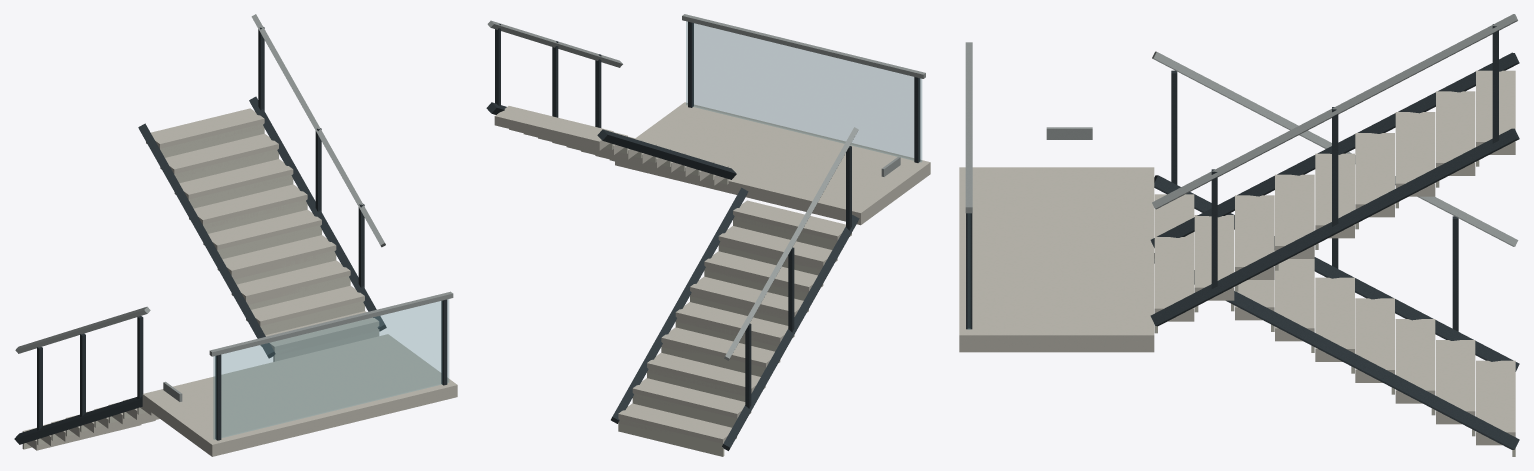
3 renders of one model, left to right at view 1: azimuth 30°, elevation 25°; view 2: azimuth 150°, elevation 25°; view 3: azimuth 270°, elevation 25°, orthographic. The views are drawn at different scales.
Visible parts, largest first — view 1: VIS_Stair_Mid_Landing__Terrazzo, VIS_Stair_B_Treads__Terrazzo, VIS_Mid_Landing_Back_Glass__ClearGlass, VIS_Stair_B_Risers__Limestone, VIS_Stair_B_Side_Stringer__CharcoalSteel, VIS_Mid_Landing_Back_Cap__SilverAluminum, VIS_Stair_A_Treads__Terrazzo, VIS_Stair_B_Outer_Post__CharcoalSteel, VIS_Stair_A_Outer_Post__CharcoalSteel, VIS_Stair_B_Outer_Handrail__SilverAluminum, VIS_Stair_A_Side_Stringer__CharcoalSteel, VIS_Mid_Landing_Guard_Post__CharcoalSteel (+1 smaller); view 2: VIS_Stair_A_Treads__Terrazzo, VIS_Mid_Landing_Back_Glass__ClearGlass, VIS_Stair_Mid_Landing__Terrazzo, VIS_Stair_A_Risers__Limestone, VIS_Stair_B_Treads__Terrazzo, VIS_Stair_A_Side_Stringer__CharcoalSteel, VIS_Mid_Landing_Back_Cap__SilverAluminum, VIS_Stair_B_Side_Stringer__CharcoalSteel, VIS_Stair_A_Outer_Post__CharcoalSteel, VIS_Stair_A_Outer_Handrail__SilverAluminum, VIS_Stair_B_Outer_Post__CharcoalSteel, VIS_Mid_Landing_Guard_Post__CharcoalSteel (+1 smaller); view 3: VIS_Stair_Mid_Landing__Terrazzo, VIS_Stair_B_Treads__Terrazzo, VIS_Stair_A_Treads__Terrazzo, VIS_Stair_B_Side_Stringer__CharcoalSteel, VIS_Stair_A_Side_Stringer__CharcoalSteel, VIS_Stair_B_Outer_Handrail__SilverAluminum, VIS_Stair_A_Outer_Handrail__SilverAluminum, VIS_Stair_B_Outer_Post__CharcoalSteel, VIS_Stair_A_Outer_Post__CharcoalSteel, VIS_Mid_Landing_Back_Cap__SilverAluminum, VIS_Mid_Landing_Guard_Post__CharcoalSteel, VIS_Stair_Mid_Safety_Light__SilverAluminum.
Boxes of the visible parts, <box> form: VIS_Stair_Mid_Landing__Terrazzo: <box>142,334,457,456</box>; VIS_Stair_B_Treads__Terrazzo: <box>146,108,379,355</box>; VIS_Mid_Landing_Back_Glass__ClearGlass: <box>213,299,448,439</box>; VIS_Stair_B_Risers__Limestone: <box>160,123,379,361</box>; VIS_Stair_B_Side_Stringer__CharcoalSteel: <box>138,96,386,358</box>; VIS_Mid_Landing_Back_Cap__SilverAluminum: <box>209,291,453,356</box>; VIS_Stair_A_Treads__Terrazzo: <box>22,399,159,450</box>; VIS_Stair_B_Outer_Post__CharcoalSteel: <box>258,27,364,287</box>; VIS_Stair_A_Outer_Post__CharcoalSteel: <box>37,316,143,430</box>; VIS_Stair_B_Outer_Handrail__SilverAluminum: <box>251,14,385,247</box>; VIS_Stair_A_Side_Stringer__CharcoalSteel: <box>14,396,142,444</box>; VIS_Mid_Landing_Guard_Post__CharcoalSteel: <box>215,299,447,440</box>; VIS_Stair_A_Treads__Terrazzo: <box>618,200,851,443</box>; VIS_Mid_Landing_Back_Glass__ClearGlass: <box>686,21,921,161</box>; VIS_Stair_Mid_Landing__Terrazzo: <box>615,102,930,225</box>; VIS_Stair_A_Risers__Limestone: <box>618,216,837,456</box>; VIS_Stair_B_Treads__Terrazzo: <box>494,106,728,185</box>; VIS_Stair_A_Side_Stringer__CharcoalSteel: <box>611,187,859,450</box>; VIS_Mid_Landing_Back_Cap__SilverAluminum: <box>682,14,925,78</box>; VIS_Stair_B_Side_Stringer__CharcoalSteel: <box>486,102,736,179</box>; VIS_Stair_A_Outer_Post__CharcoalSteel: <box>745,146,851,408</box>; VIS_Stair_A_Outer_Handrail__SilverAluminum: <box>724,127,858,360</box>; VIS_Stair_B_Outer_Post__CharcoalSteel: <box>495,24,601,127</box>; VIS_Mid_Landing_Guard_Post__CharcoalSteel: <box>688,21,920,162</box>; VIS_Stair_Mid_Landing__Terrazzo: <box>959,167,1154,352</box>; VIS_Stair_B_Treads__Terrazzo: <box>1154,70,1515,321</box>; VIS_Stair_A_Treads__Terrazzo: <box>1154,194,1515,445</box>; VIS_Stair_B_Side_Stringer__CharcoalSteel: <box>1150,52,1519,326</box>; VIS_Stair_A_Side_Stringer__CharcoalSteel: <box>1154,175,1519,449</box>; VIS_Stair_B_Outer_Handrail__SilverAluminum: <box>1152,14,1517,209</box>; VIS_Stair_A_Outer_Handrail__SilverAluminum: <box>1152,51,1518,246</box>; VIS_Stair_B_Outer_Post__CharcoalSteel: <box>1211,24,1498,288</box>; VIS_Stair_A_Outer_Post__CharcoalSteel: <box>1171,70,1458,331</box>; VIS_Mid_Landing_Back_Cap__SilverAluminum: <box>965,42,972,213</box>; VIS_Mid_Landing_Guard_Post__CharcoalSteel: <box>966,213,972,329</box>; VIS_Stair_Mid_Safety_Light__SilverAluminum: <box>1046,127,1092,139</box>.
Size of the model in its own units: 2.78 by 4.08 by 3.91.
Materials: 6 (6 with a texture image).
